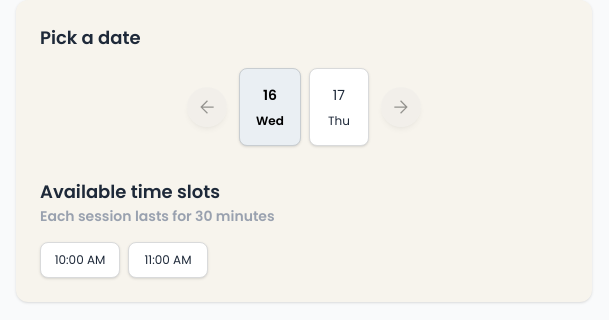
it: AppointmentScheduler › updates slot list when a different date is selected
This screenshot has width=609, height=320.
Click the text "17" at [339, 95], box [333,85,345,105]
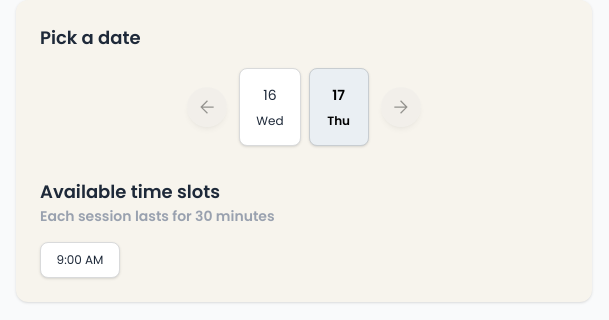
Expected: the button "9:00 AM" is shown, [40,242,120,278]
